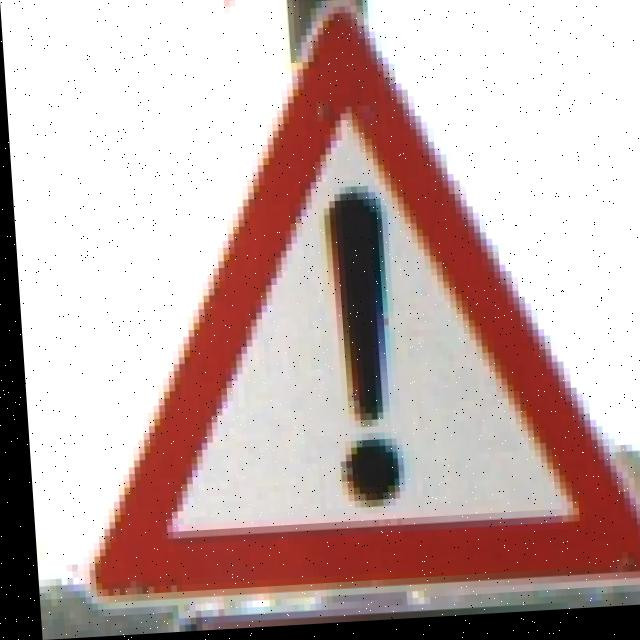warning: (62, 7, 640, 615)
